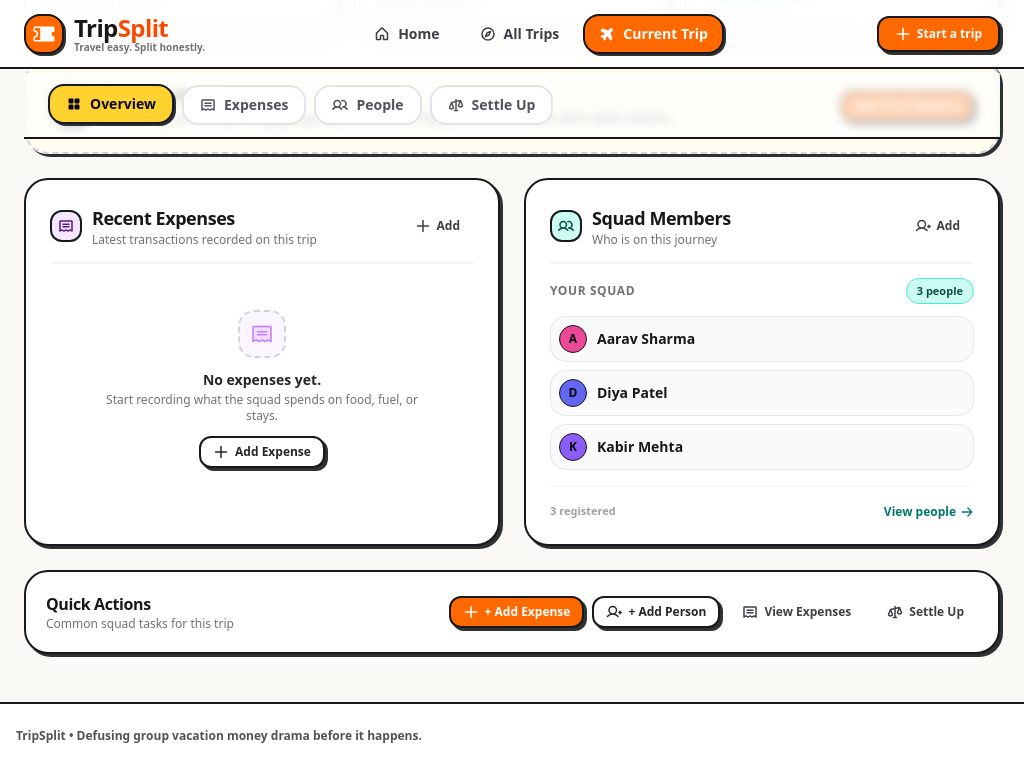
Test case: Trip Dashboard & Financial Integration Tests (Step 7) › 12. clicking "+ Add Person" opens the real Add Person modal
The width and height of the screenshot is (1024, 768).
(page scrolled)
Click the button "+ Add Person".
click(656, 612)  # box [592,596,720,628]
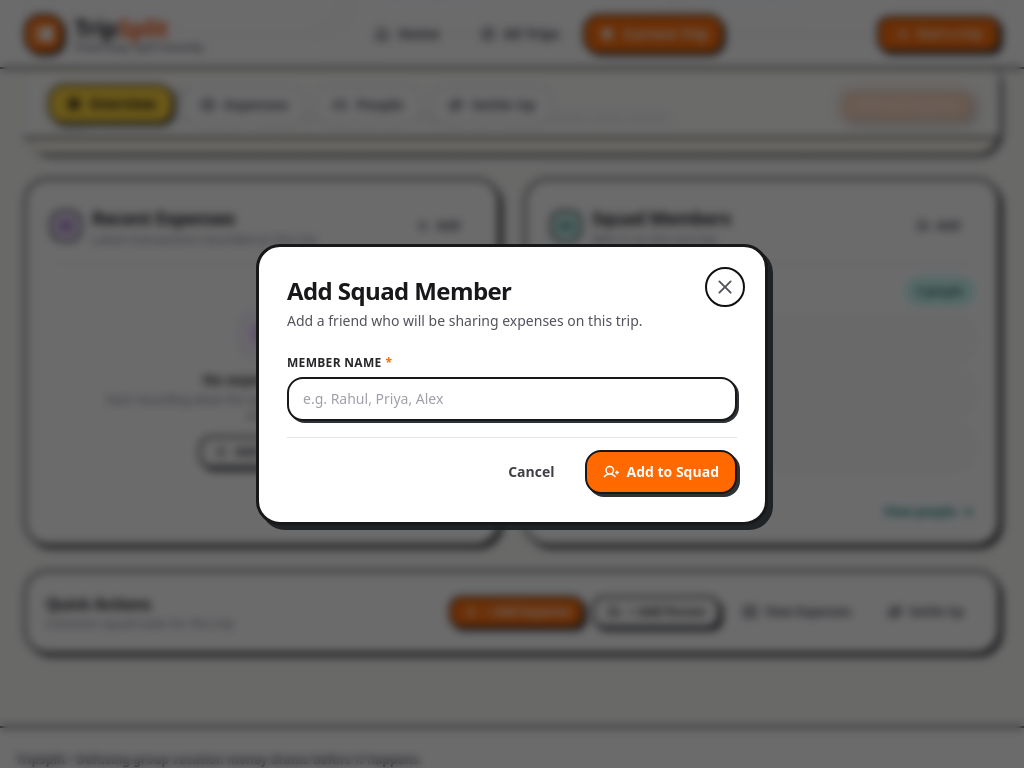
Check: the heading "Add Squad Member" is shown, box [287,274,511,306]
Check: the field labelled "Member Name *" is shown, box [287,376,737,420]
